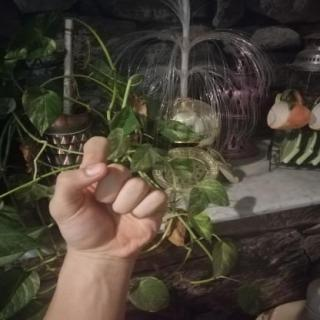FAA: (38, 128, 177, 266)
